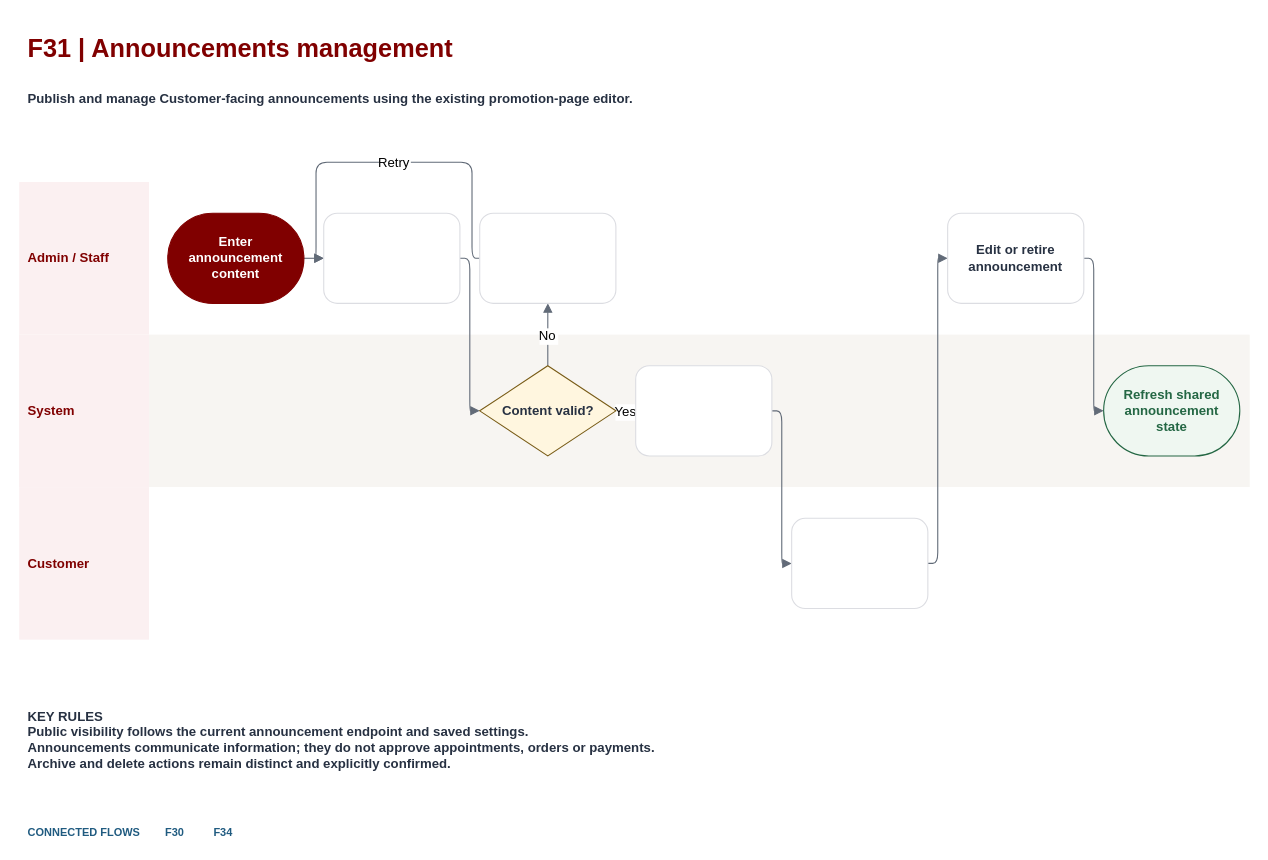
Some shapes in this 1268 by 860 pixel diagram are drawn without their labels. Each missing label, with the centre of its shape:
Correct content; keep draft: the point at 547,257
Read public announcement: the point at 859,563
Review visibility and preview: the point at 391,257
Save announcement: the point at 703,410
